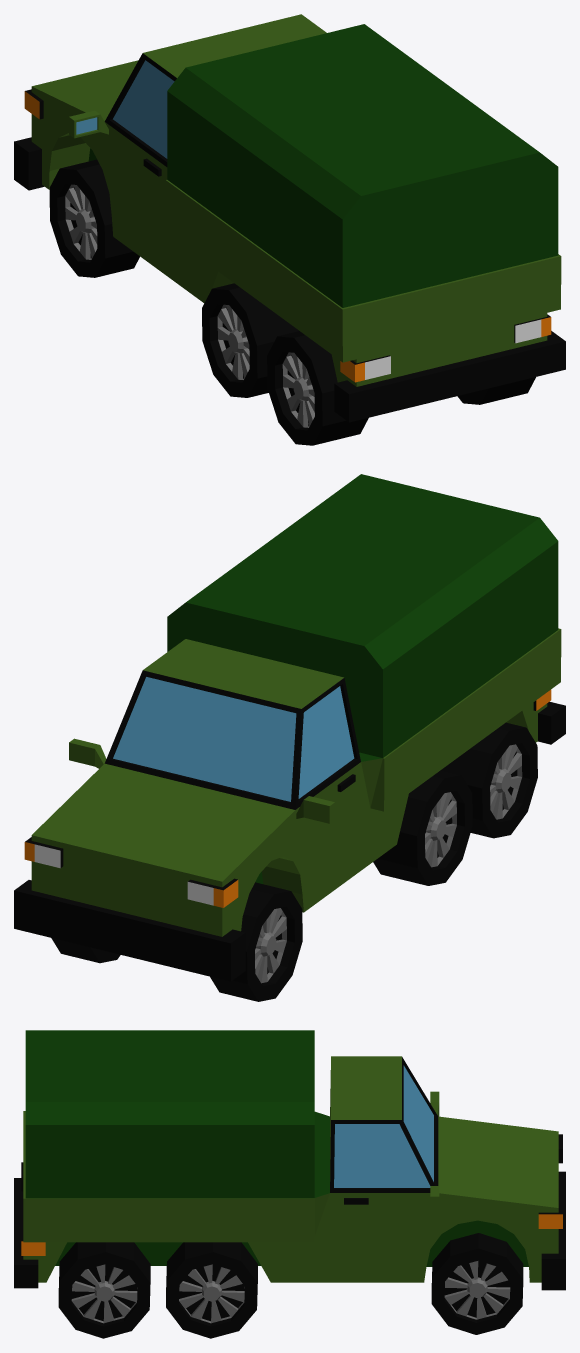
Rendered from militaryTrack.fbx.
3 views of the same model, one above another, from view 1: azimuth 30°, elevation 25°; view 2: azimuth 150°, elevation 25°; view 3: azimuth 270°, elevation 25° (orthographic). The views are drawn at different scales.
Visible parts, largest first — view 1: car001.003; view 2: car001.003; view 3: car001.003.
Boxes of the visible parts, x1,y1,x2,y2 form: car001.003: (14, 14, 565, 445); car001.003: (14, 474, 565, 1001); car001.003: (14, 1030, 565, 1338).
Size of the model in its own units: 119 by 122 by 265.
